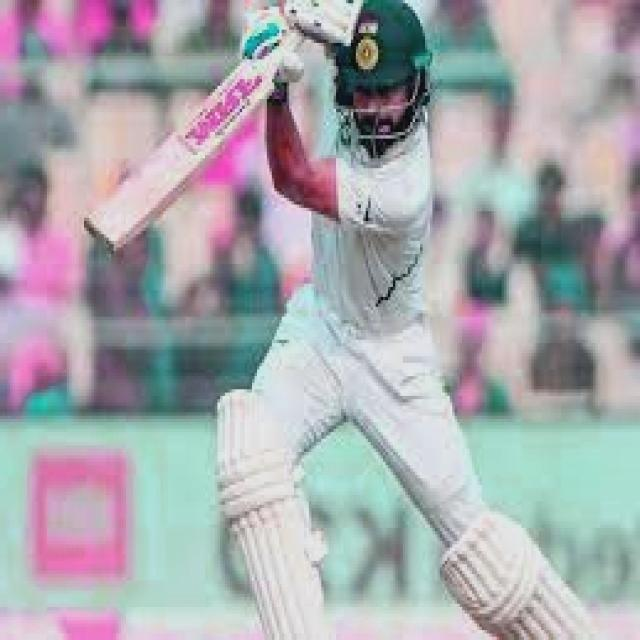toe: (79, 212, 146, 255)
